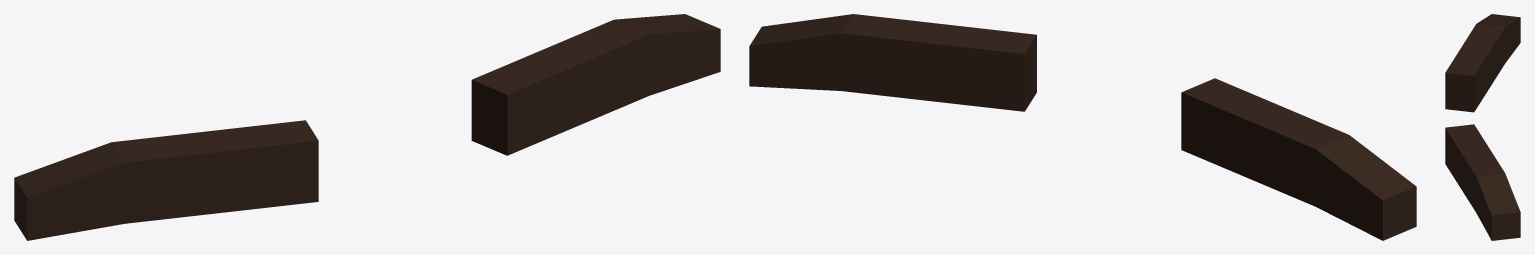
Rendered from NeutralEyebrowsM.glb.
3 renders of one model, left to right at view 1: azimuth 30°, elevation 25°; view 2: azimuth 150°, elevation 25°; view 3: azimuth 270°, elevation 25°, orthographic. The views are drawn at different scales.
Parts seen in each view (by area): view 1: NeutralEyebrowsM.001; view 2: NeutralEyebrowsM.001; view 3: NeutralEyebrowsM.001.
Part boxes in pixels (<box>): NeutralEyebrowsM.001: <box>14,14,720,240</box>; NeutralEyebrowsM.001: <box>749,14,1416,240</box>; NeutralEyebrowsM.001: <box>1445,14,1520,240</box>.
Bounding box in the file's own units: 1.59 × 0.1474 × 0.2519.
